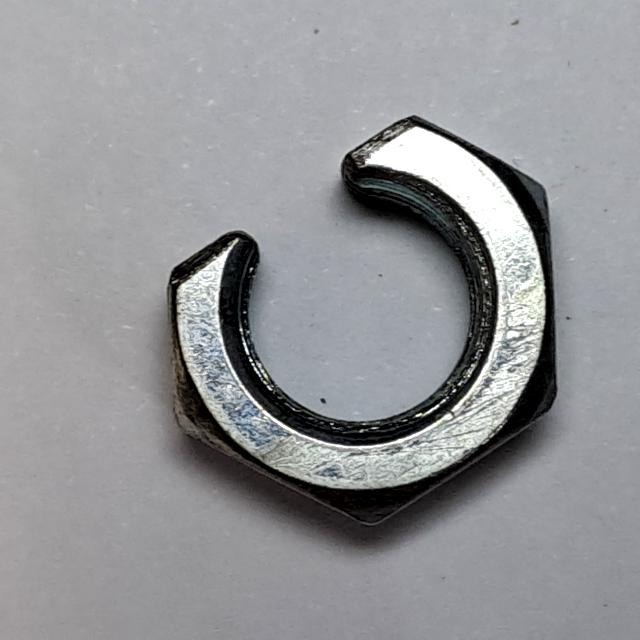Fracture: (149, 96, 572, 544)
